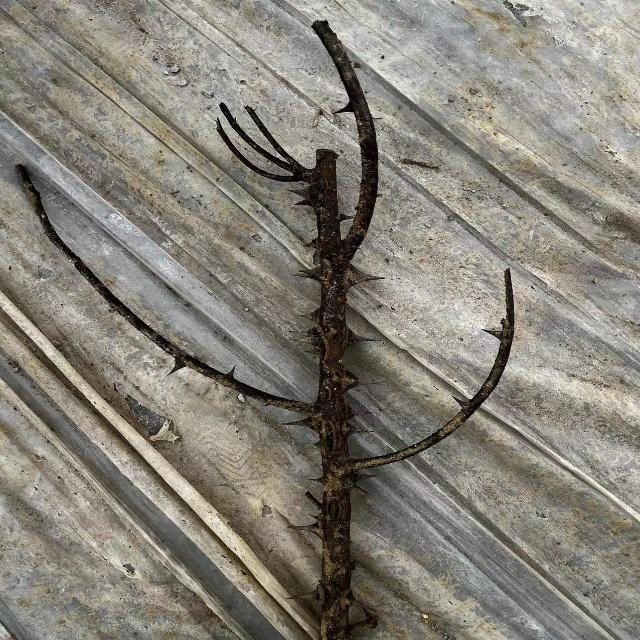branch: (197, 20, 396, 640)
